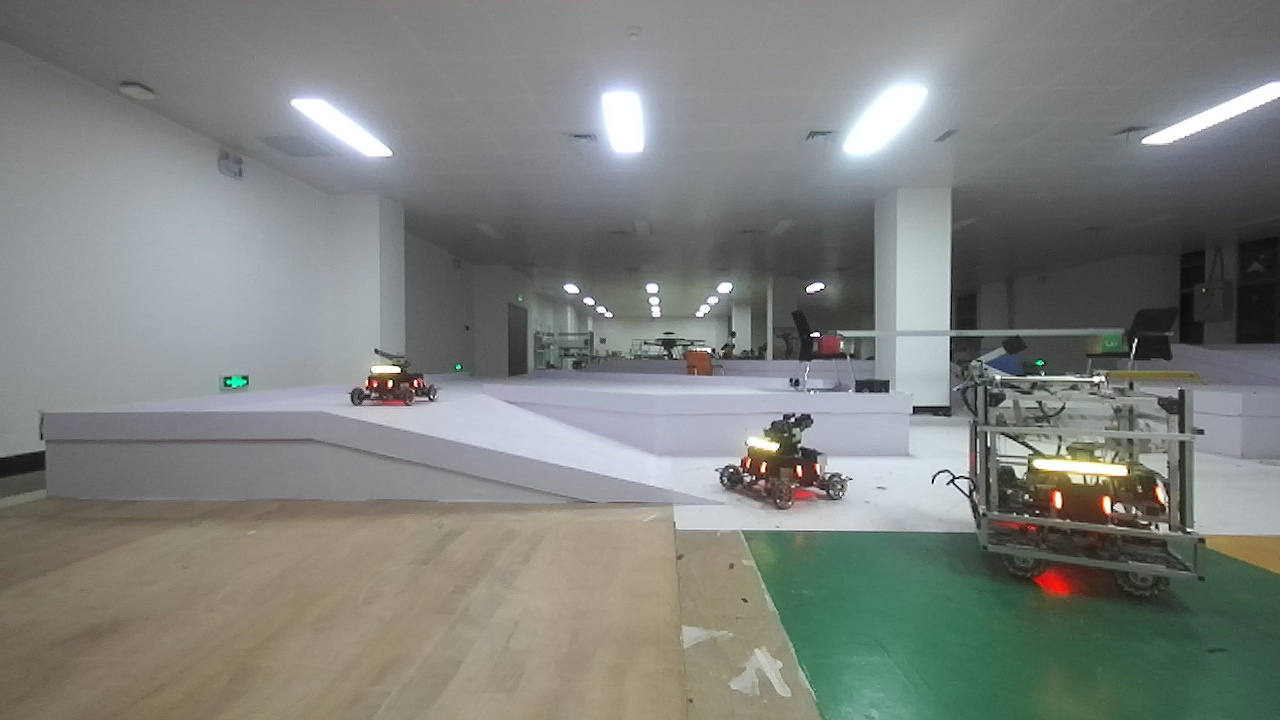car: (959, 368, 1223, 599), (720, 410, 847, 521), (335, 346, 447, 415)
